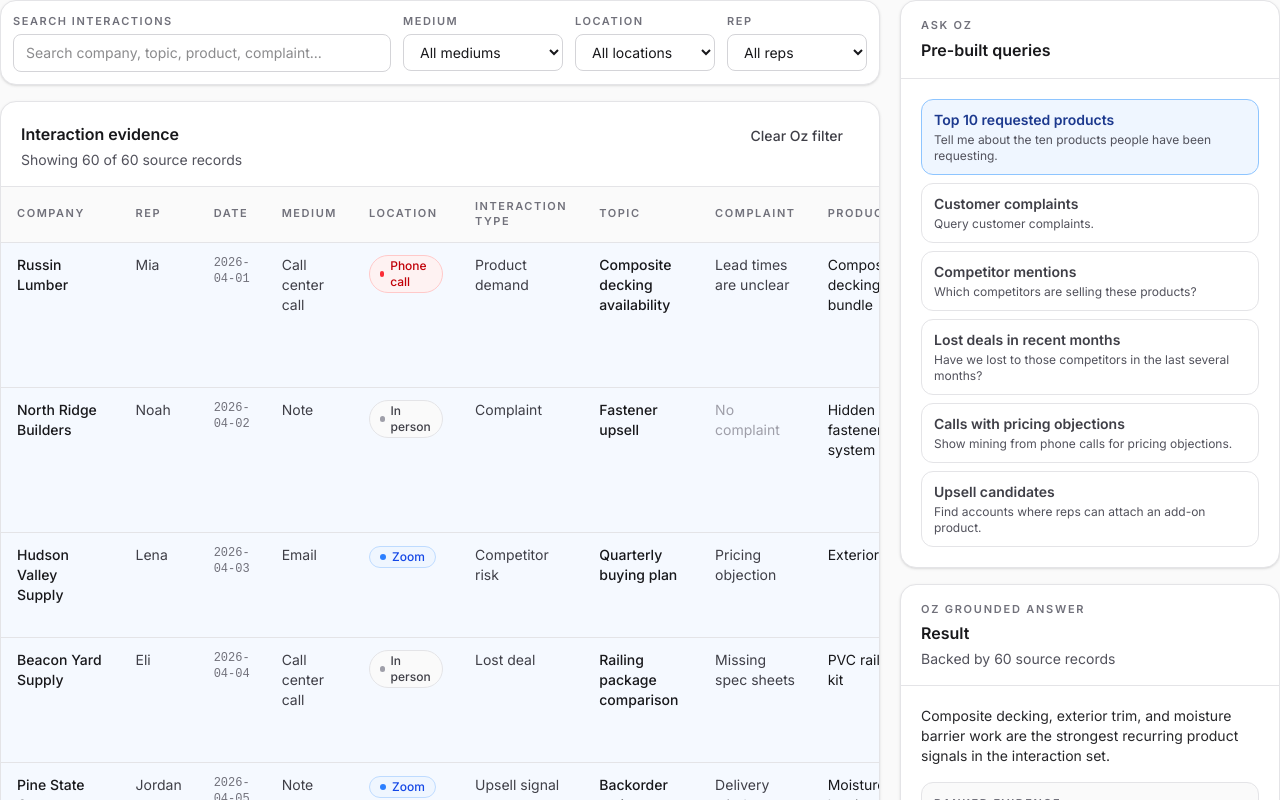
Test: CallMiningPage › uses query buttons to filter source rows and show a grounded Oz answer
Click the button "Customer complaints Query customer complaints.". click: (1090, 212)
box: [921,182,1259,242]
(page scrolled)
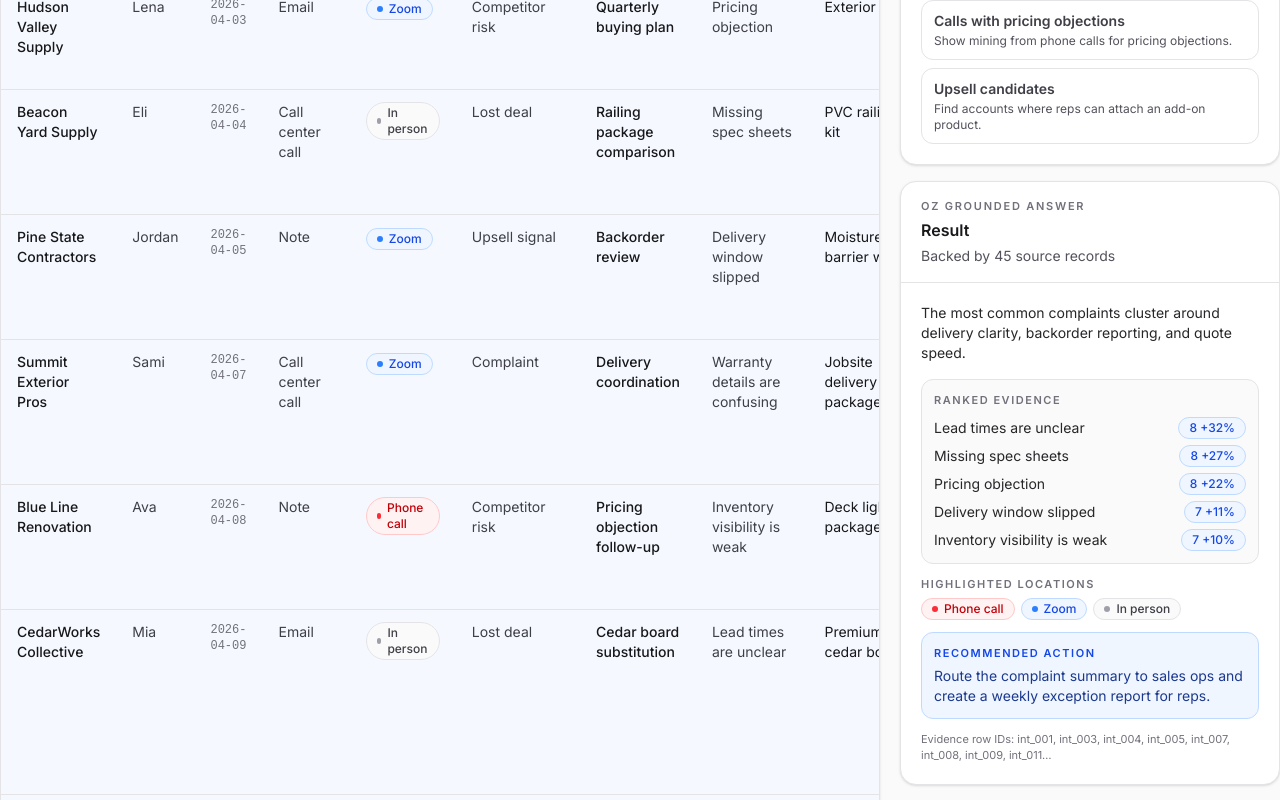
Expected: the text "Recommended action" is shown, [934,646,1096,660]
Result: the number of elements with test id "call-mining-row" is 45
